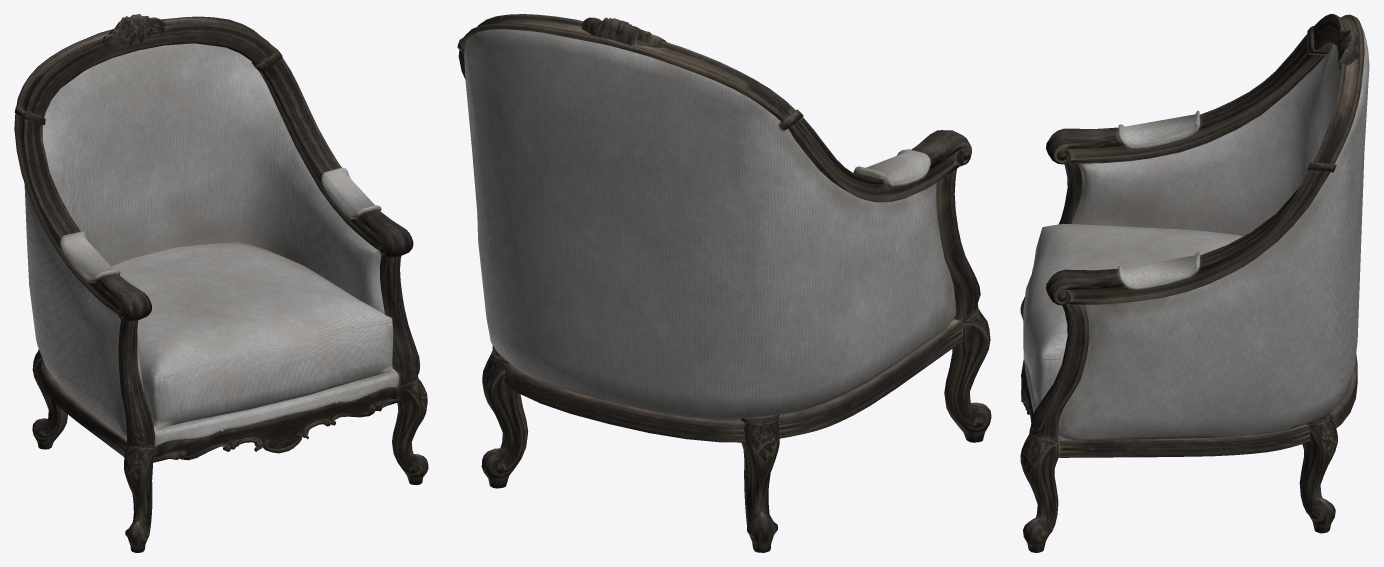
Rendered from ArmChair_01_4k.fbx.
3 views of the same model, side by side, from view 1: azimuth 30°, elevation 25°; view 2: azimuth 150°, elevation 25°; view 3: azimuth 270°, elevation 25° (orthographic). The views are drawn at different scales.
Visible parts, largest first — view 1: ArmChair_01; view 2: ArmChair_01; view 3: ArmChair_01.
Part boxes in pixels (x1=…): ArmChair_01: x1=14, y1=14, x2=428, y2=552; ArmChair_01: x1=457, y1=14, x2=991, y2=552; ArmChair_01: x1=1020, y1=14, x2=1369, y2=552.
Size of the model in its own units: 84.84 by 107 by 76.58.
1 material, 1 textured.
